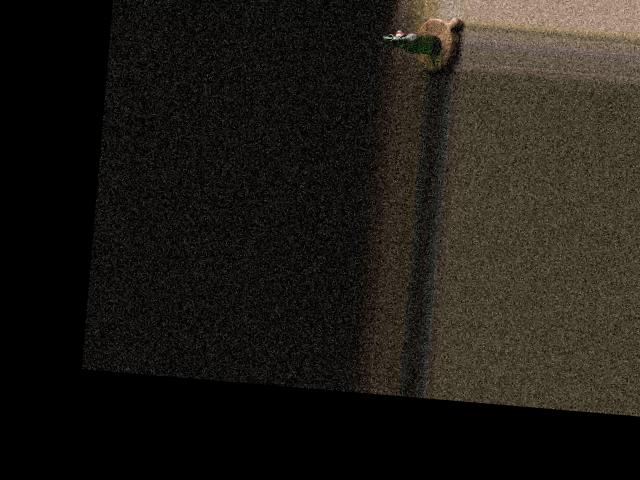beer: (379, 30, 440, 54)
